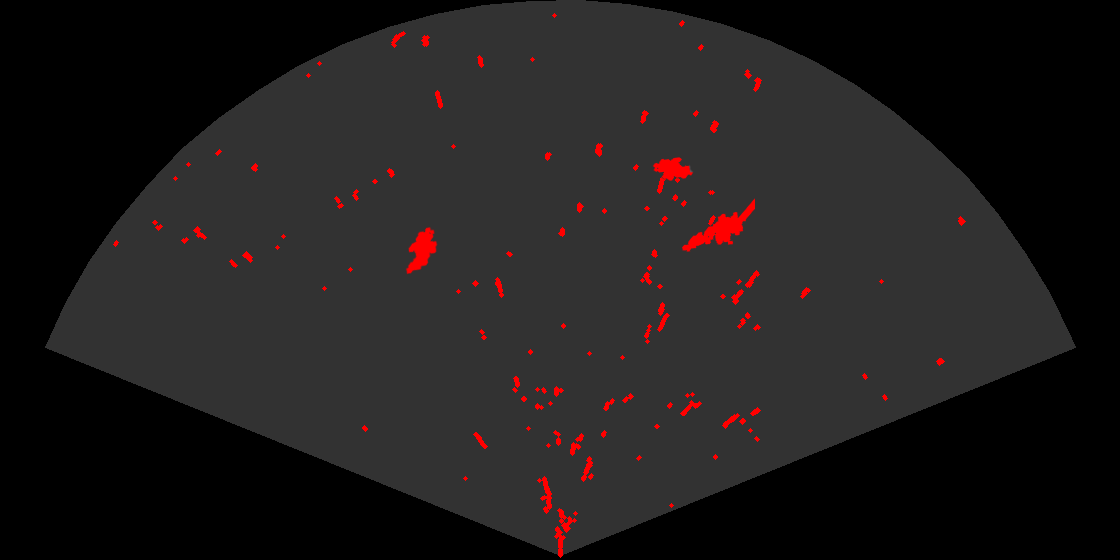AUV: (404, 225, 439, 276), (651, 156, 694, 182)
frogman: (680, 197, 755, 253)
